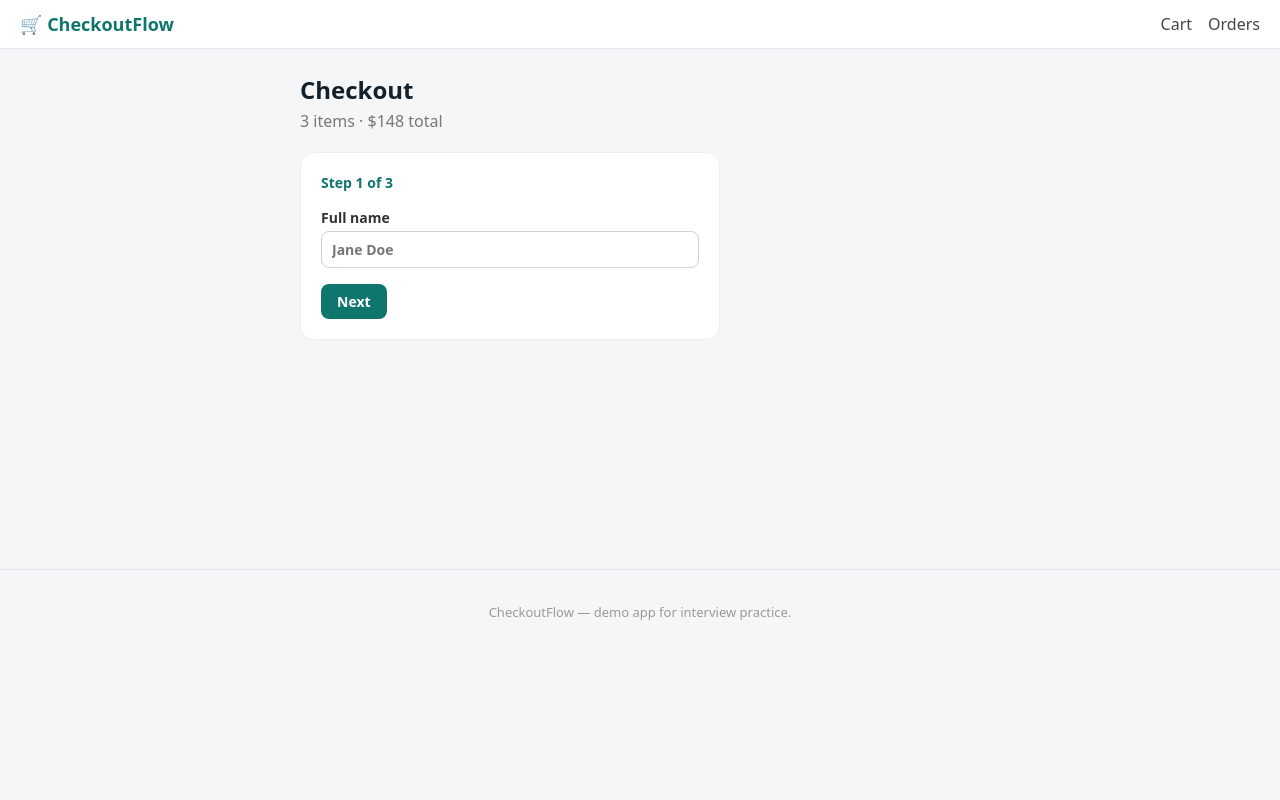
it: m09 · CheckoutFlow — app renders › navigates to the Orders route via the navbar
This screenshot has width=1280, height=800.
Click the link with test id "nav-orders" at (1234, 24), box [1208,13,1260,35]
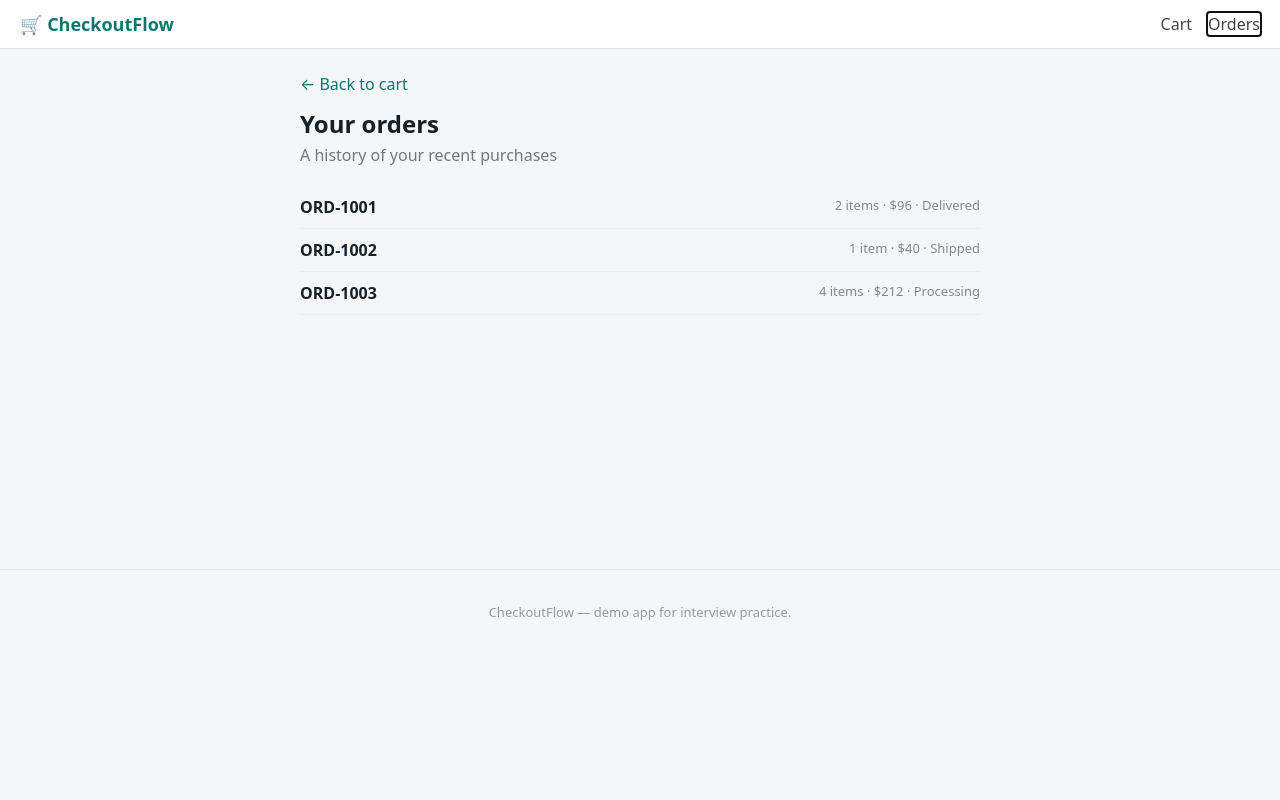
Check: the element with test id "orders-page" is shown, box [280,49,1000,339]
